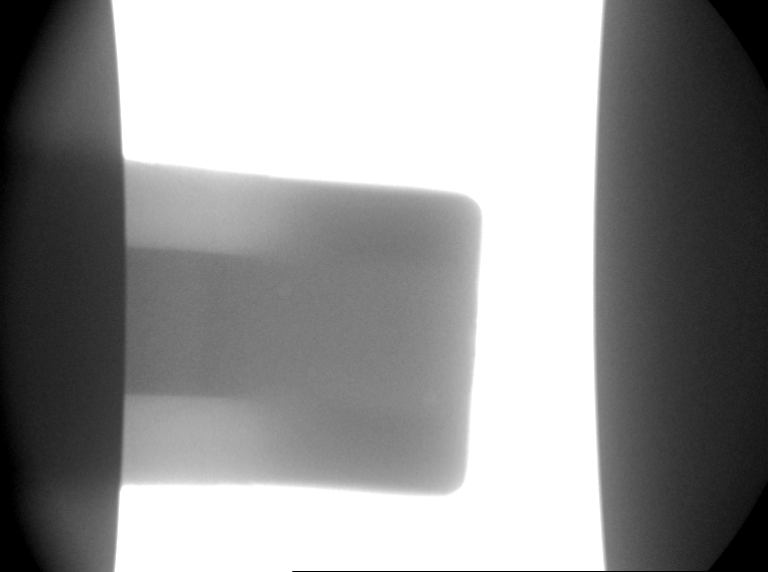defect: (268, 281, 298, 313)
